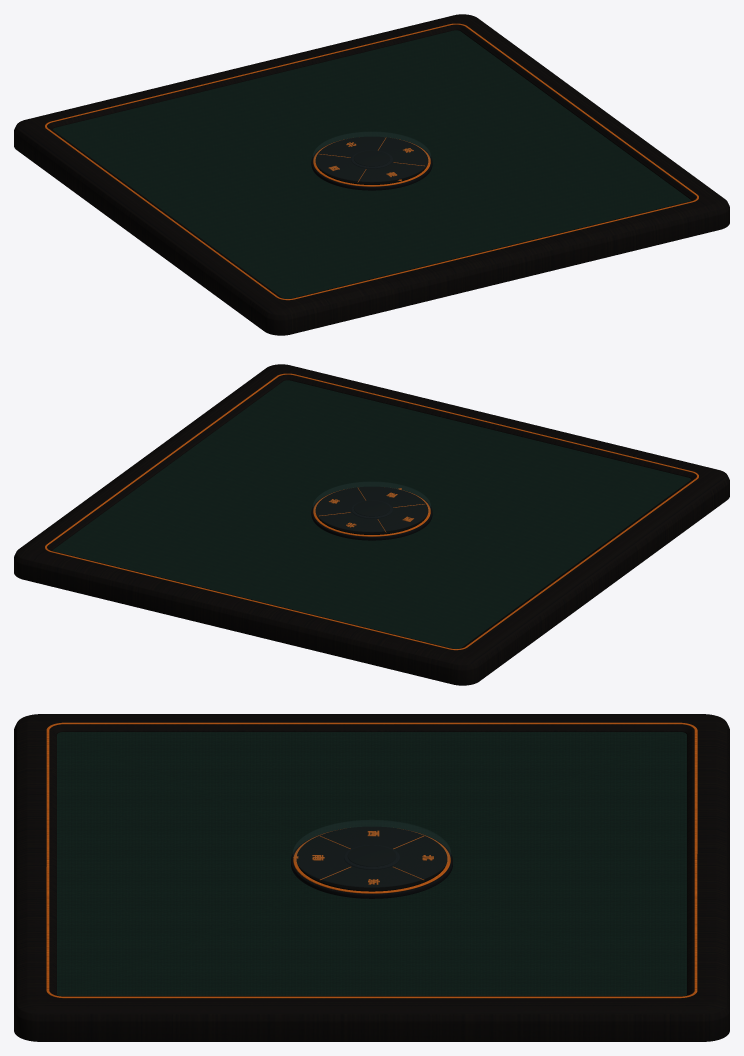
File: mahjong_table.glb
The picture shows the model from 3 angles, top to bottom: view 1: azimuth 30°, elevation 25°; view 2: azimuth 150°, elevation 25°; view 3: azimuth 270°, elevation 25°; orthographic projection. The views are drawn at different scales.
Parts seen in each view (by area): view 1: Mahjong_Felt_Surface, SM_Mahjong_Table_Frame_RoundedAlloy, Controller_TransparentGlassCover, Controller_FourSectorPanel, Frame_GoldInlay_RoundedContinuous, Controller_OuterGunmetalRing; view 2: Mahjong_Felt_Surface, SM_Mahjong_Table_Frame_RoundedAlloy, Controller_TransparentGlassCover, Controller_FourSectorPanel, Frame_GoldInlay_RoundedContinuous, Controller_OuterGunmetalRing; view 3: Mahjong_Felt_Surface, SM_Mahjong_Table_Frame_RoundedAlloy, Controller_TransparentGlassCover, Controller_FourSectorPanel, Frame_GoldInlay_RoundedContinuous, Controller_OuterGunmetalRing, Controller_DisplayBlackGlass, Controller_GoldEdgeTrim.
Part boxes in pixels (<box>): Mahjong_Felt_Surface: <box>53,30,691,298</box>; SM_Mahjong_Table_Frame_RoundedAlloy: <box>14,14,729,335</box>; Controller_TransparentGlassCover: <box>313,132,430,181</box>; Controller_FourSectorPanel: <box>315,136,428,184</box>; Frame_GoldInlay_RoundedContinuous: <box>45,23,698,300</box>; Controller_OuterGunmetalRing: <box>311,141,432,190</box>; Mahjong_Felt_Surface: <box>52,380,690,648</box>; SM_Mahjong_Table_Frame_RoundedAlloy: <box>14,364,729,685</box>; Controller_TransparentGlassCover: <box>313,482,430,531</box>; Controller_FourSectorPanel: <box>315,486,428,534</box>; Frame_GoldInlay_RoundedContinuous: <box>45,373,698,650</box>; Controller_OuterGunmetalRing: <box>311,491,432,540</box>; Mahjong_Felt_Surface: <box>57,732,686,995</box>; SM_Mahjong_Table_Frame_RoundedAlloy: <box>14,714,729,1041</box>; Controller_TransparentGlassCover: <box>293,820,450,886</box>; Controller_FourSectorPanel: <box>296,826,447,891</box>; Frame_GoldInlay_RoundedContinuous: <box>46,722,697,998</box>; Controller_OuterGunmetalRing: <box>291,830,452,898</box>; Controller_DisplayBlackGlass: <box>347,845,396,866</box>; Controller_GoldEdgeTrim: <box>293,829,450,893</box>.
Bounding box in the file's own units: 1.5 × 0.087 × 1.5.
Materials: 9 (8 with a texture image).
